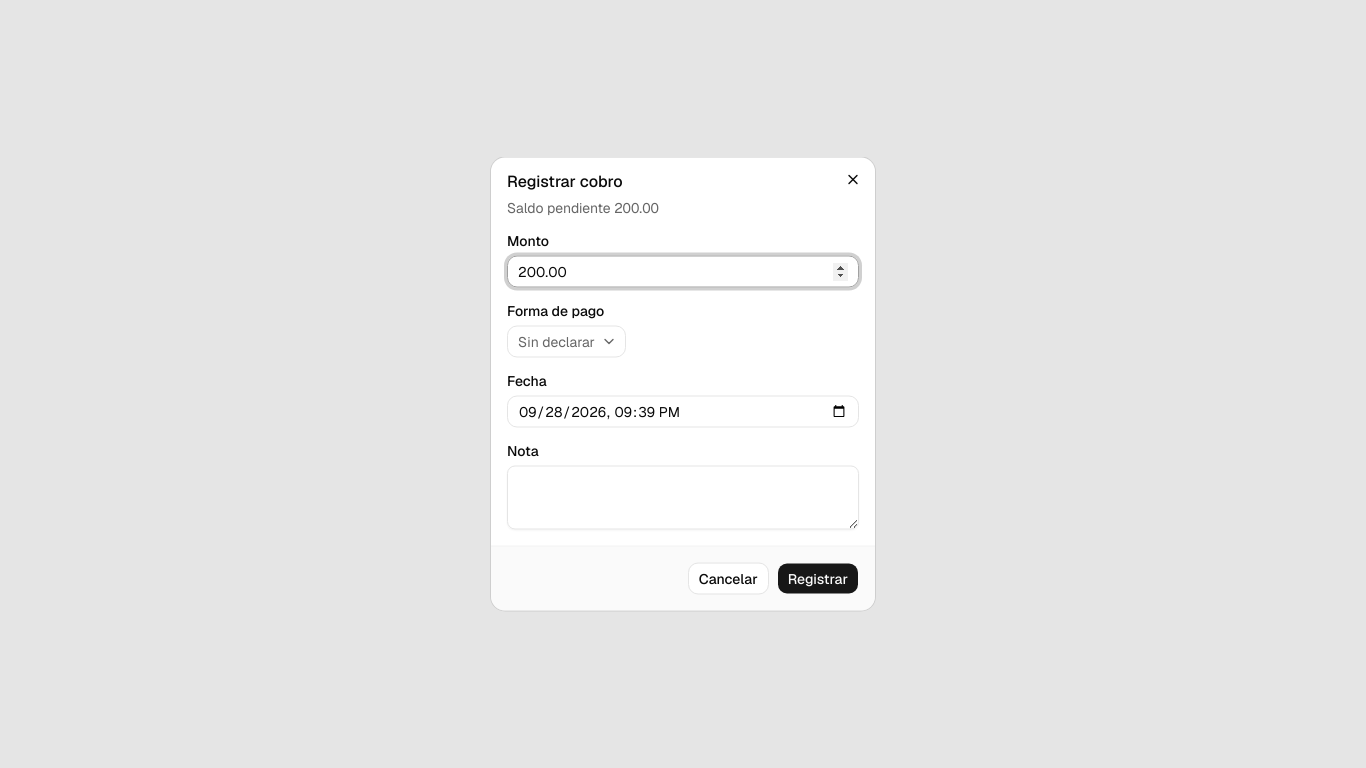
Test: PaymentDialog › Scenario: Advertencia antes de confirmar — 250 sobre un saldo de 200
Replace the text in the number field labelled "Monto" with "250" at (683, 272), box [507,256,859,288]
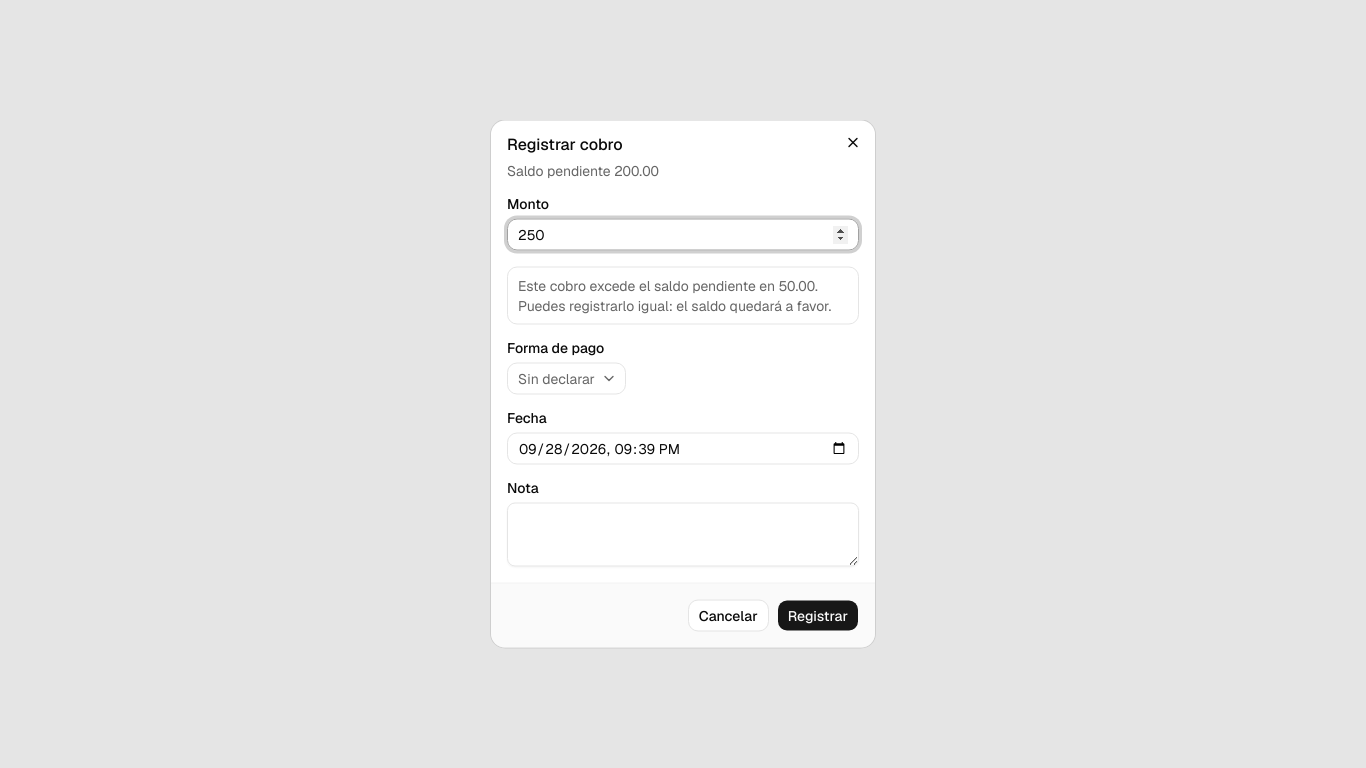
expect the message with test id "overpayment-warning" shows "50.00": met, box [779,276,815,294]
